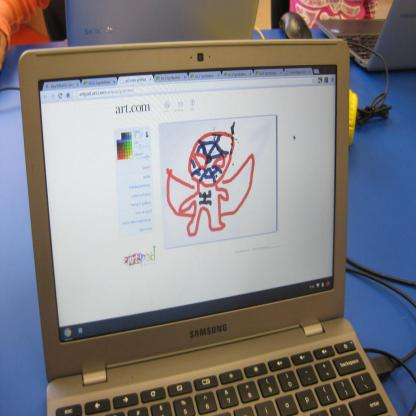board: (35, 38, 396, 416), (65, 0, 259, 46)
